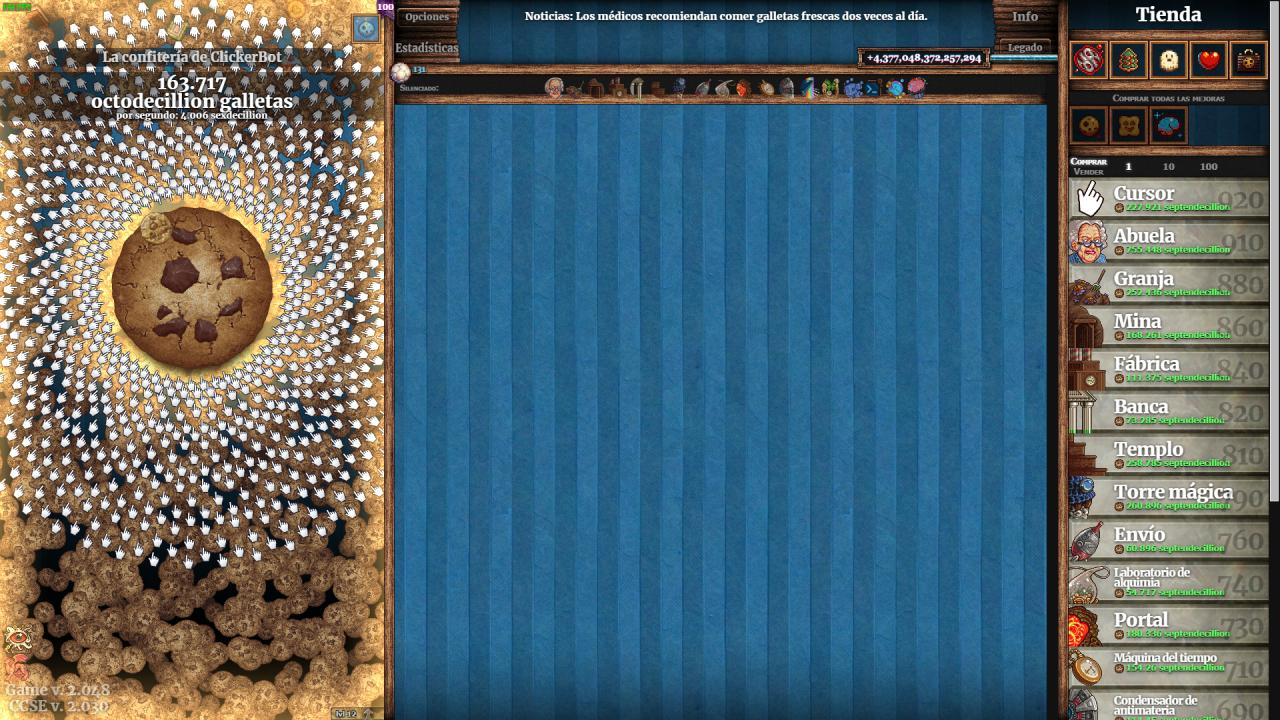GoldenCookie: (140, 212, 174, 247)
